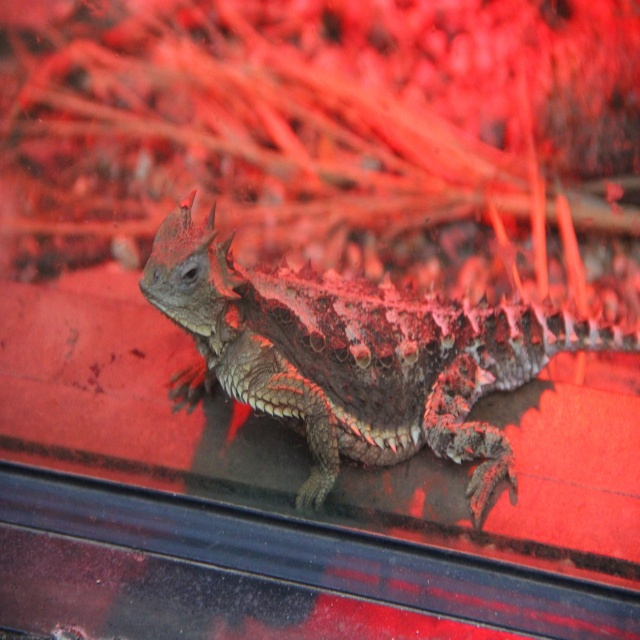Lizard: (190, 163, 606, 571)
